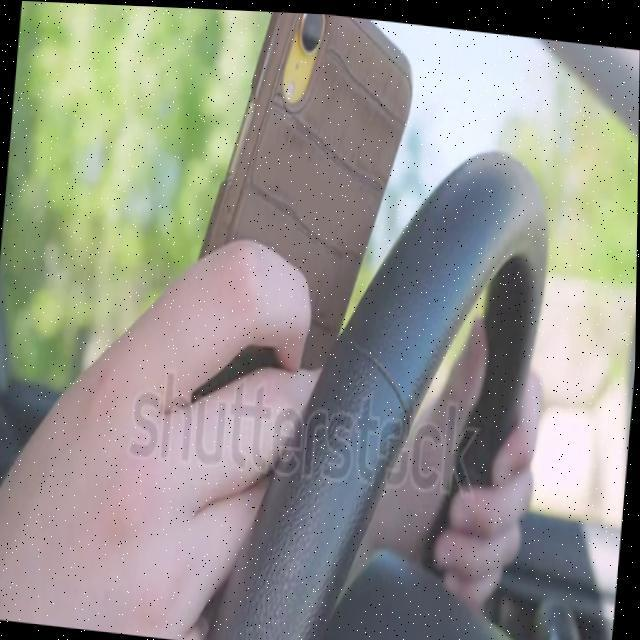PhoneCall: (193, 7, 417, 370)
